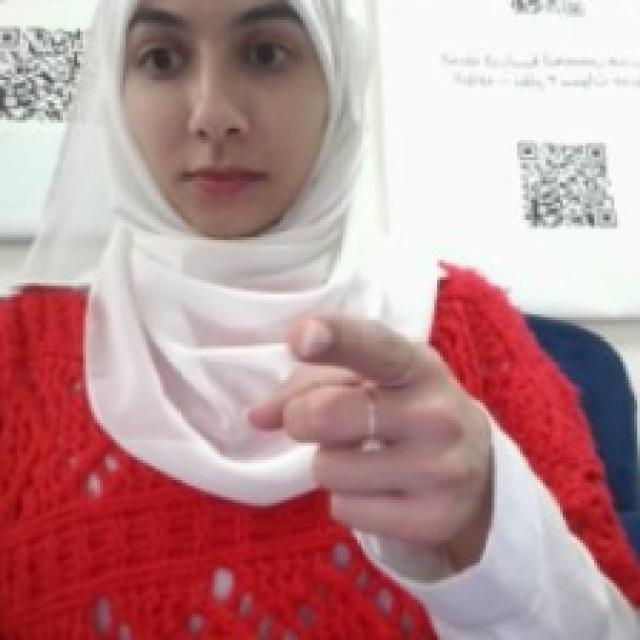you: (240, 300, 491, 551)
